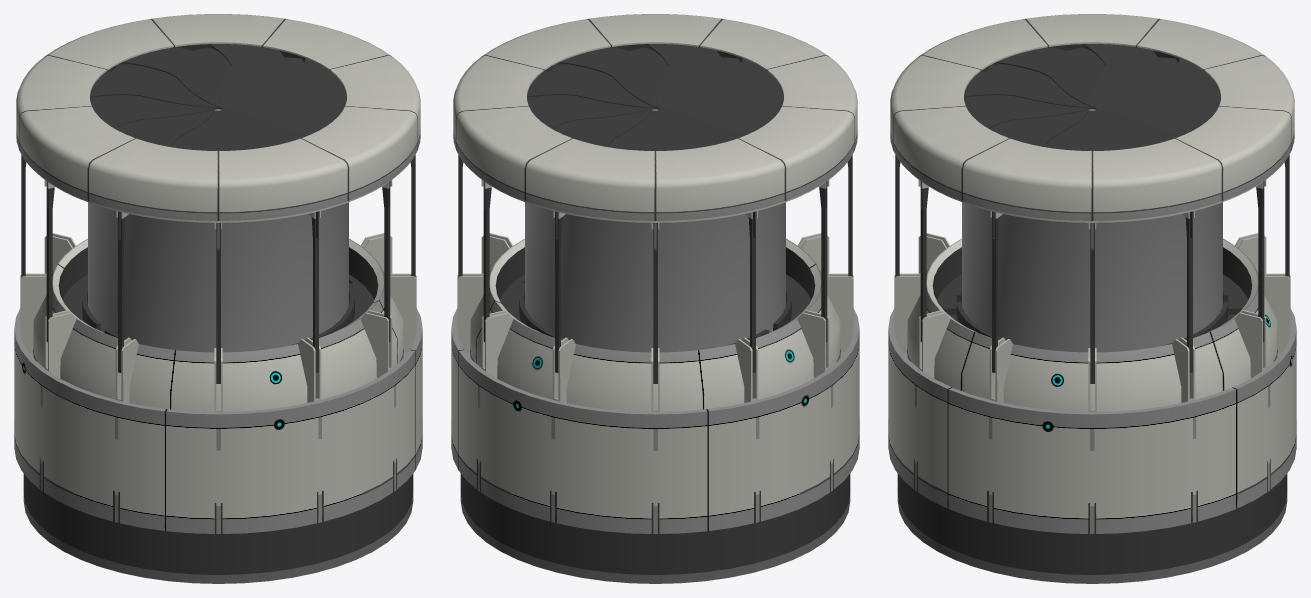
The model's file is EDITOR_item_dropper.obj.
3 renders of one model, left to right at view 1: azimuth 30°, elevation 25°; view 2: azimuth 150°, elevation 25°; view 3: azimuth 270°, elevation 25°, orthographic.
Parts seen in each view (by area): view 1: Body.dmx/item_dropper_model.dmx.mesh_0, Body.dmx/item_dropper_model.dmx.mesh_1; view 2: Body.dmx/item_dropper_model.dmx.mesh_0, Body.dmx/item_dropper_model.dmx.mesh_1; view 3: Body.dmx/item_dropper_model.dmx.mesh_0, Body.dmx/item_dropper_model.dmx.mesh_1.
Boxes of the visible parts, box(x1,y1,x2,y2) form: Body.dmx/item_dropper_model.dmx.mesh_0: box(14, 14, 422, 583); Body.dmx/item_dropper_model.dmx.mesh_1: box(88, 109, 348, 352); Body.dmx/item_dropper_model.dmx.mesh_0: box(451, 14, 859, 583); Body.dmx/item_dropper_model.dmx.mesh_1: box(525, 109, 785, 352); Body.dmx/item_dropper_model.dmx.mesh_0: box(888, 14, 1296, 583); Body.dmx/item_dropper_model.dmx.mesh_1: box(962, 109, 1222, 352).
Size of the model in its own units: 117 by 128 by 117.
